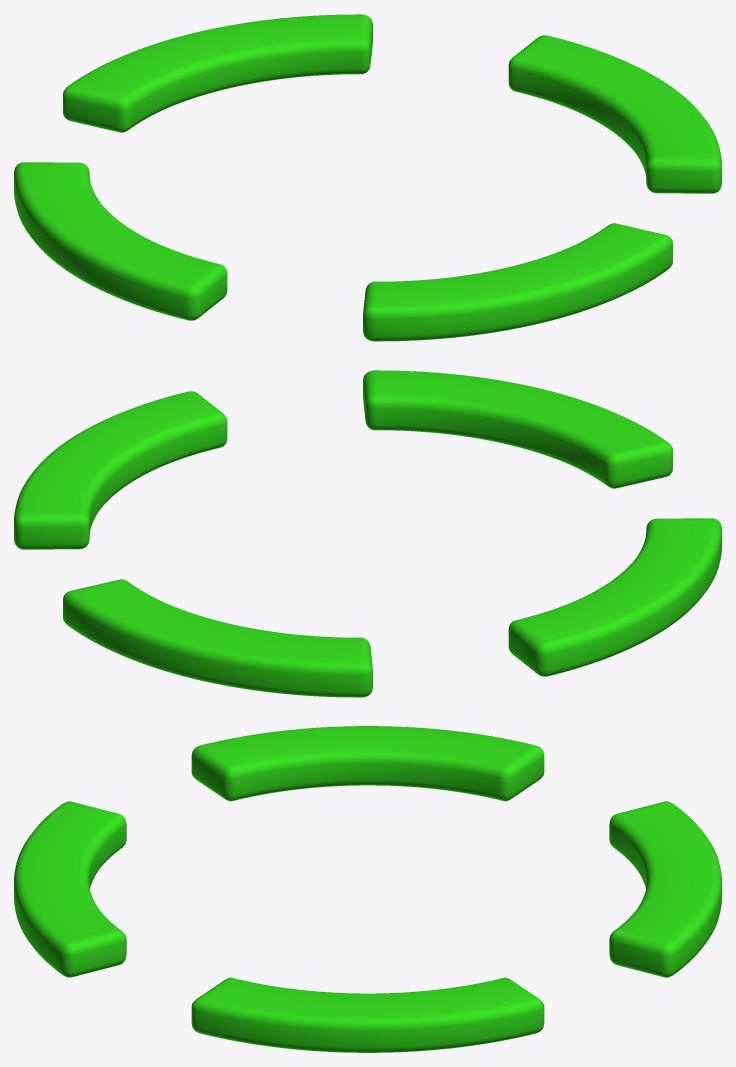
File: cerceve.fbx
3 views of the same model, one above another, from view 1: azimuth 30°, elevation 25°; view 2: azimuth 150°, elevation 25°; view 3: azimuth 270°, elevation 25° (orthographic).
Visible parts, largest first — view 1: ChamferBox014, ChamferBox017, ChamferBox015, ChamferBox016; view 2: ChamferBox014, ChamferBox017, ChamferBox015, ChamferBox016; view 3: ChamferBox015, ChamferBox016, ChamferBox014, ChamferBox017.
Part boxes in pixels (x1,y1,x2,y2): ChamferBox014: [63, 14, 372, 132]; ChamferBox017: [363, 223, 672, 341]; ChamferBox015: [14, 162, 227, 320]; ChamferBox016: [508, 35, 721, 193]; ChamferBox014: [63, 579, 372, 697]; ChamferBox017: [363, 370, 672, 488]; ChamferBox015: [508, 518, 721, 676]; ChamferBox016: [14, 391, 227, 549]; ChamferBox015: [191, 726, 544, 801]; ChamferBox016: [191, 977, 544, 1052]; ChamferBox014: [609, 801, 721, 977]; ChamferBox017: [14, 801, 126, 977].
Size of the model in its own units: 188 by 10 by 188.
